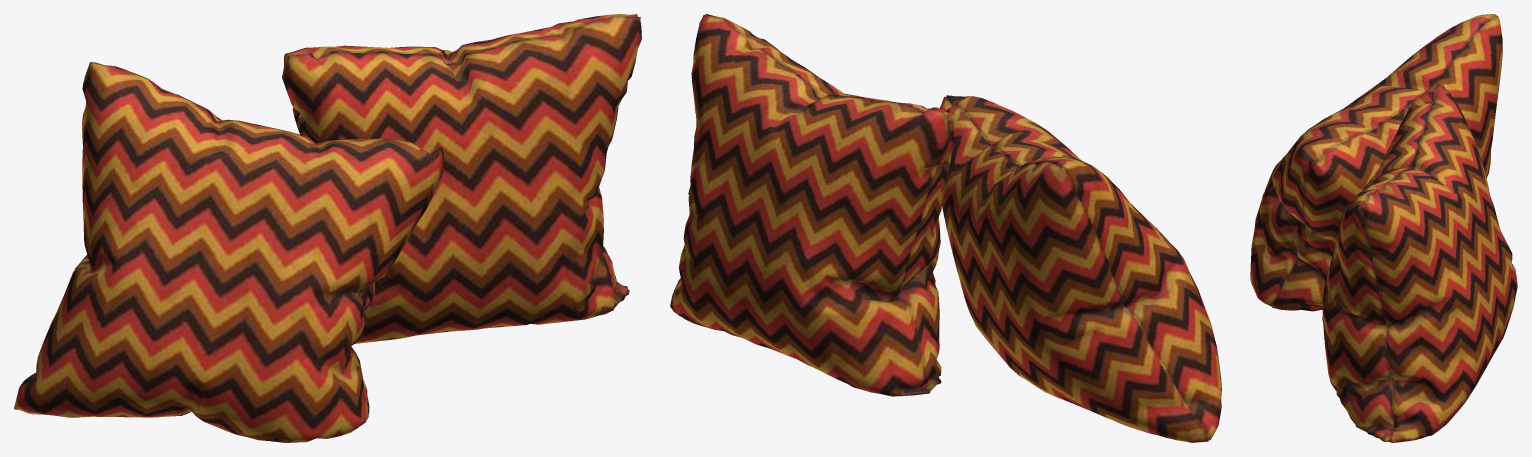
The model's file is throw_pillows_01.glb.
3 views of the same model, side by side, from view 1: azimuth 30°, elevation 25°; view 2: azimuth 150°, elevation 25°; view 3: azimuth 270°, elevation 25° (orthographic). The views are drawn at different scales.
Parts seen in each view (by area): view 1: throw_pillows_01_pillow01, throw_pillows_01_pillow02; view 2: throw_pillows_01_pillow02, throw_pillows_01_pillow01; view 3: throw_pillows_01_pillow02, throw_pillows_01_pillow01.
Part boxes in pixels (x1,y1,x2,y2): throw_pillows_01_pillow01: (14,62,443,442); throw_pillows_01_pillow02: (282,14,641,343); throw_pillows_01_pillow02: (670,14,953,396); throw_pillows_01_pillow01: (939,95,1221,442); throw_pillows_01_pillow02: (1322,84,1517,442); throw_pillows_01_pillow01: (1250,14,1502,311).
Size of the model in its own units: 0.9401 by 0.4502 by 0.4519.
Materials: 1 (1 with a texture image).
